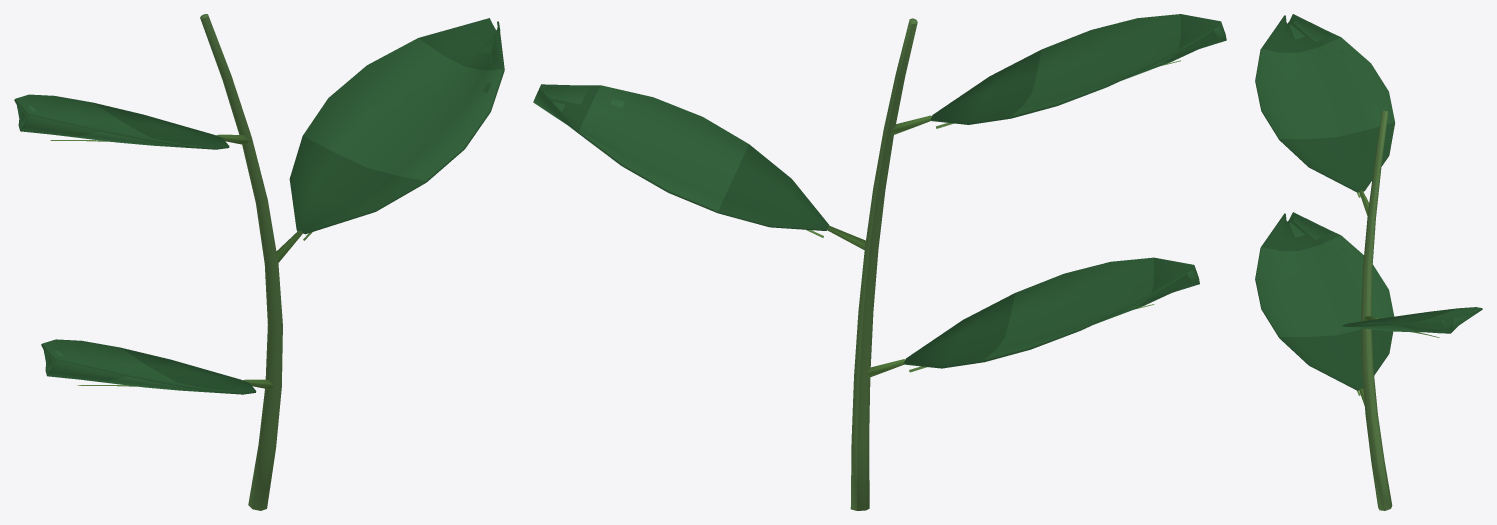
Rendered from garden-orchid-bloom-stem-0.glb.
The picture shows the model from 3 angles, left to right: view 1: azimuth 30°, elevation 25°; view 2: azimuth 150°, elevation 25°; view 3: azimuth 270°, elevation 25°; orthographic projection. The views are drawn at different scales.
Parts seen in each view (by area): view 1: orchid-bloom-stem-0; view 2: orchid-bloom-stem-0; view 3: orchid-bloom-stem-0.
Boxes of the visible parts, x1,y1,x2,y2 form: orchid-bloom-stem-0: (14, 14, 504, 510); orchid-bloom-stem-0: (533, 14, 1226, 510); orchid-bloom-stem-0: (1255, 14, 1482, 510).
Bounding box in the file's own units: 0.4816 × 0.4024 × 0.2158.
